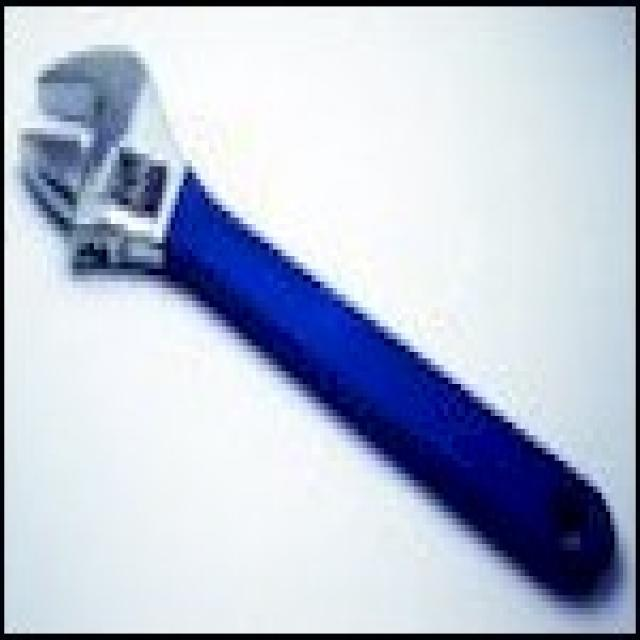wrench: (13, 36, 622, 604)
